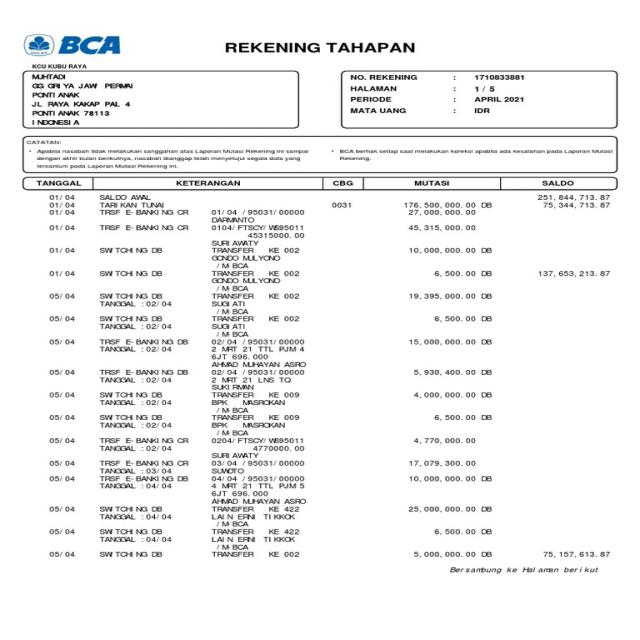transaction: (44, 472, 612, 506), (44, 335, 610, 368), (45, 289, 615, 316), (42, 433, 618, 459), (43, 411, 616, 437), (44, 524, 616, 549), (43, 366, 614, 391), (42, 390, 616, 413), (46, 314, 616, 337), (45, 224, 617, 246), (46, 247, 617, 269), (43, 504, 613, 526), (47, 268, 615, 288), (44, 457, 616, 474), (42, 549, 614, 563), (45, 209, 616, 223), (45, 192, 615, 201), (45, 201, 615, 209)
